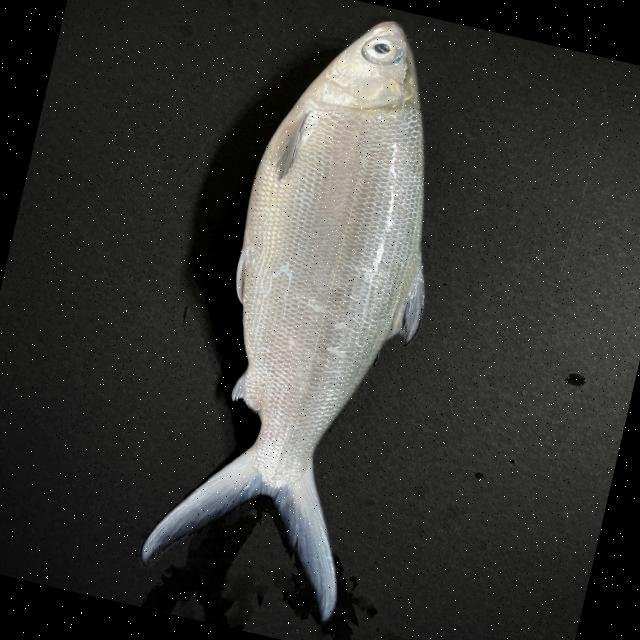675 g: (131, 0, 485, 628)
